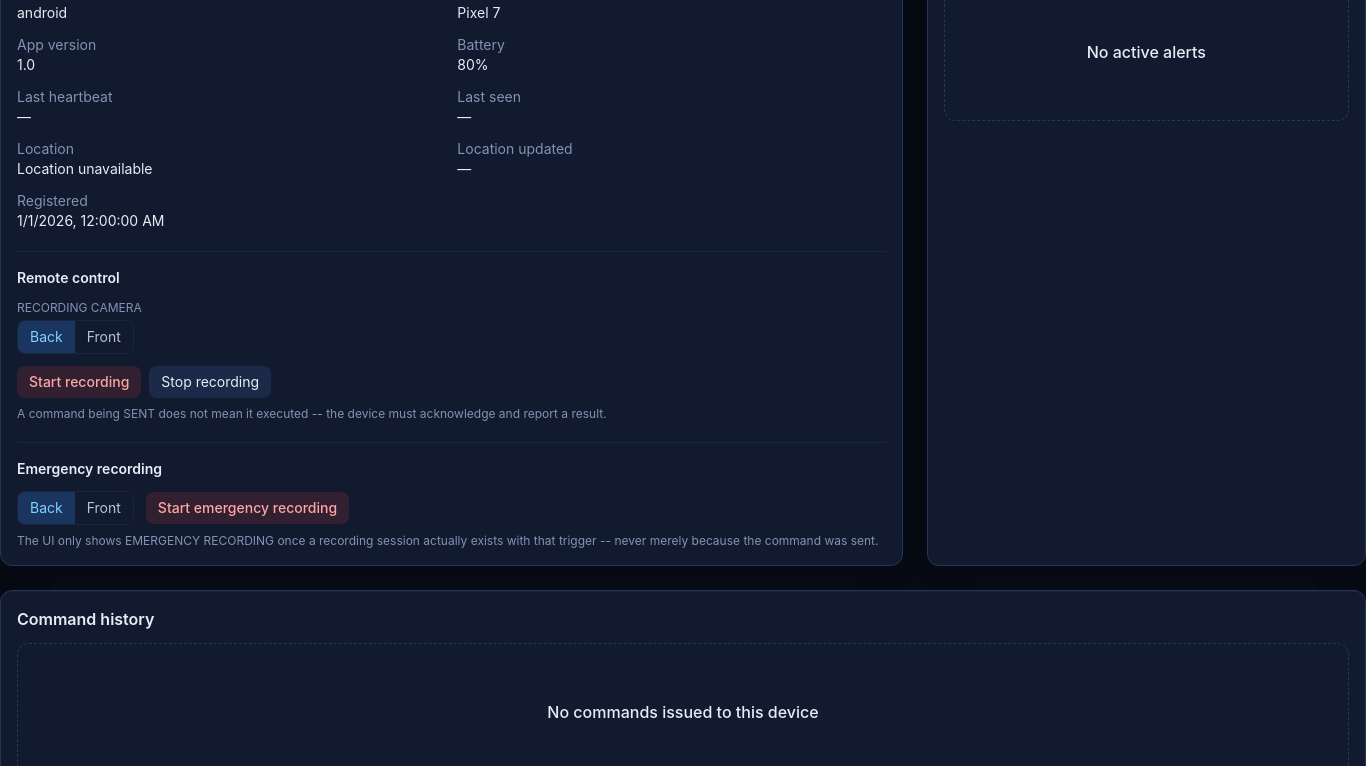
DeviceDetails remote command confirmation + lifecycle rendering › cancelling the confirmation dialog never issues the command
(page scrolled)
Expected: the heading "Remote control" is shown, [17,269,120,286]
Click the button "Start recording" at coordinates (79, 382), box [17,366,141,398]
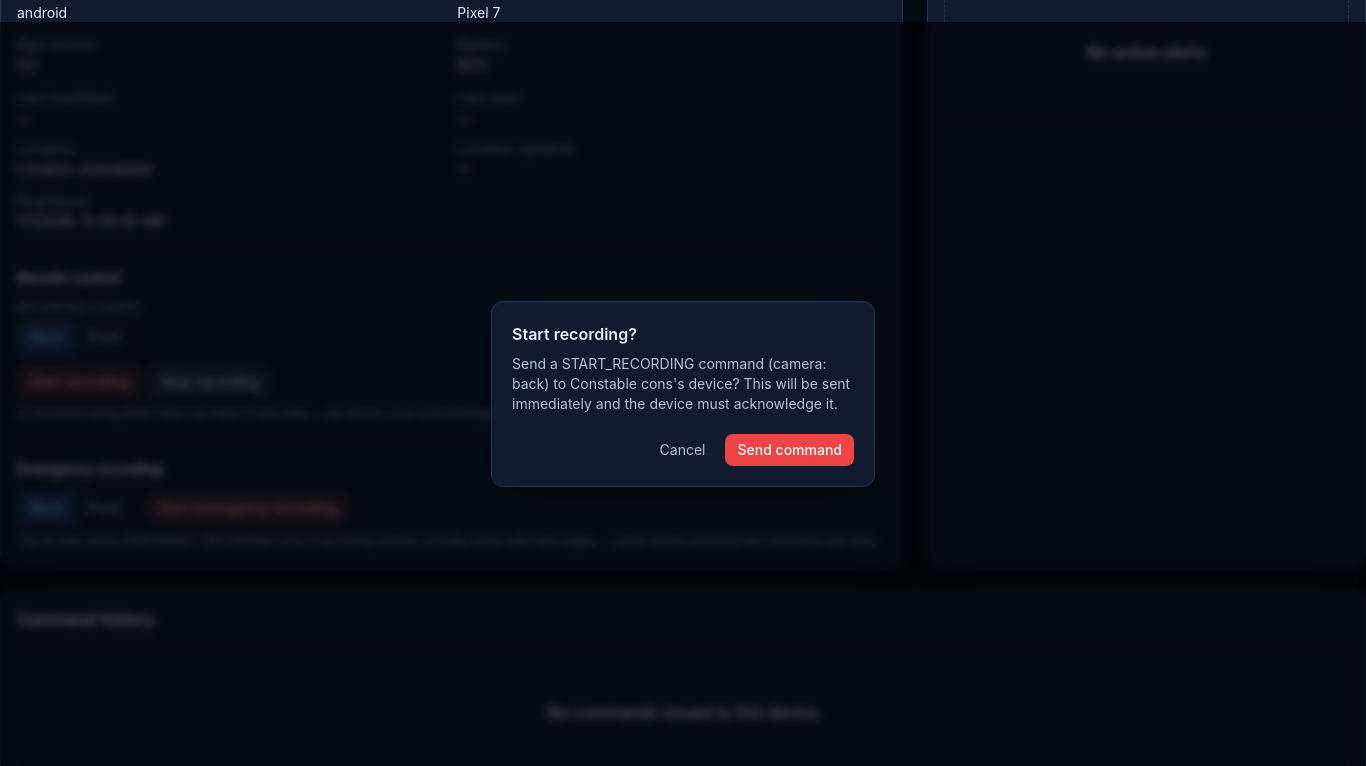
Click the button "Cancel" at coordinates (683, 450), box [648,434,718,466]
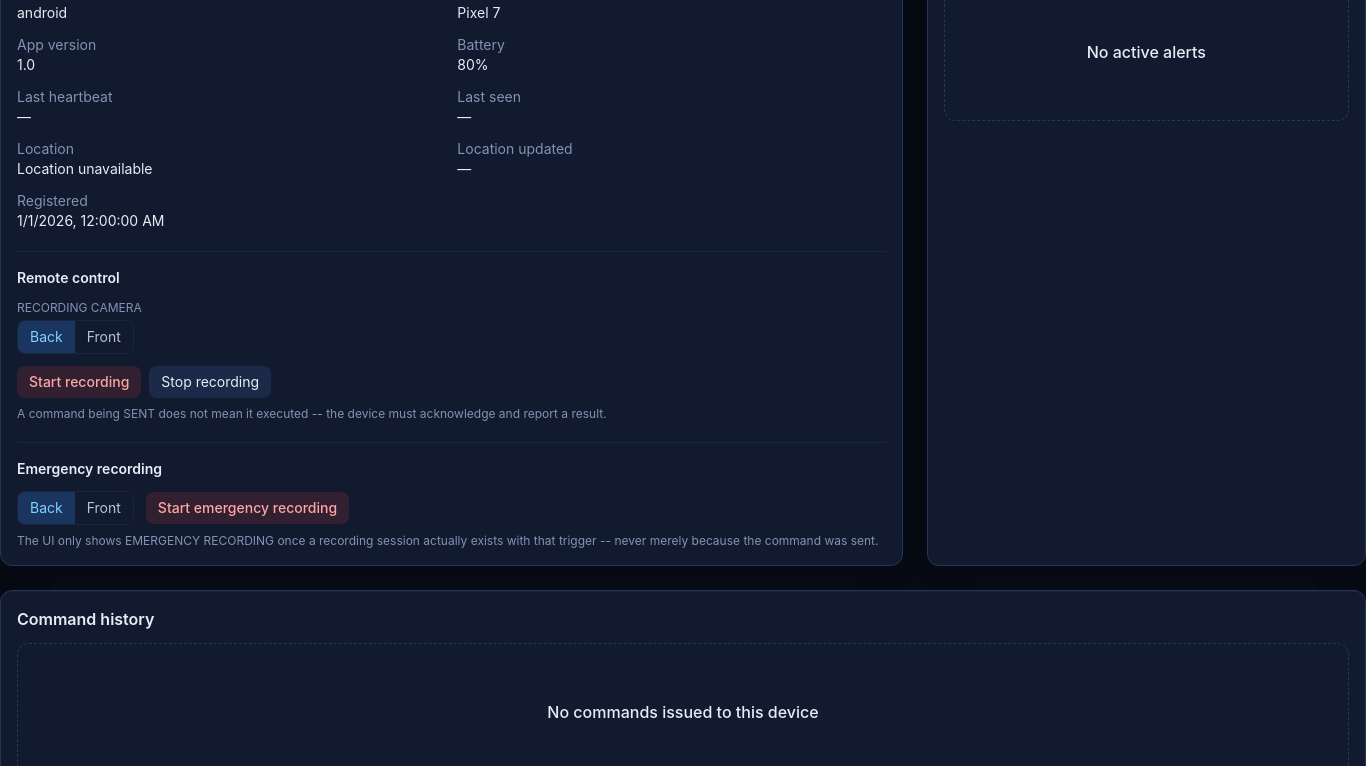
Expected: the heading "Start recording?" is gone
